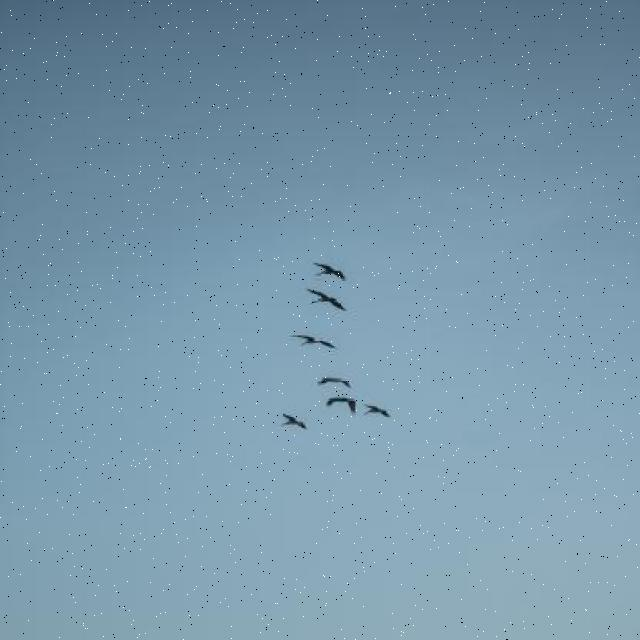bird: (308, 290, 348, 312), (291, 334, 340, 350), (312, 261, 348, 281), (326, 396, 356, 414), (317, 376, 352, 390), (280, 413, 308, 430), (363, 404, 391, 418)
